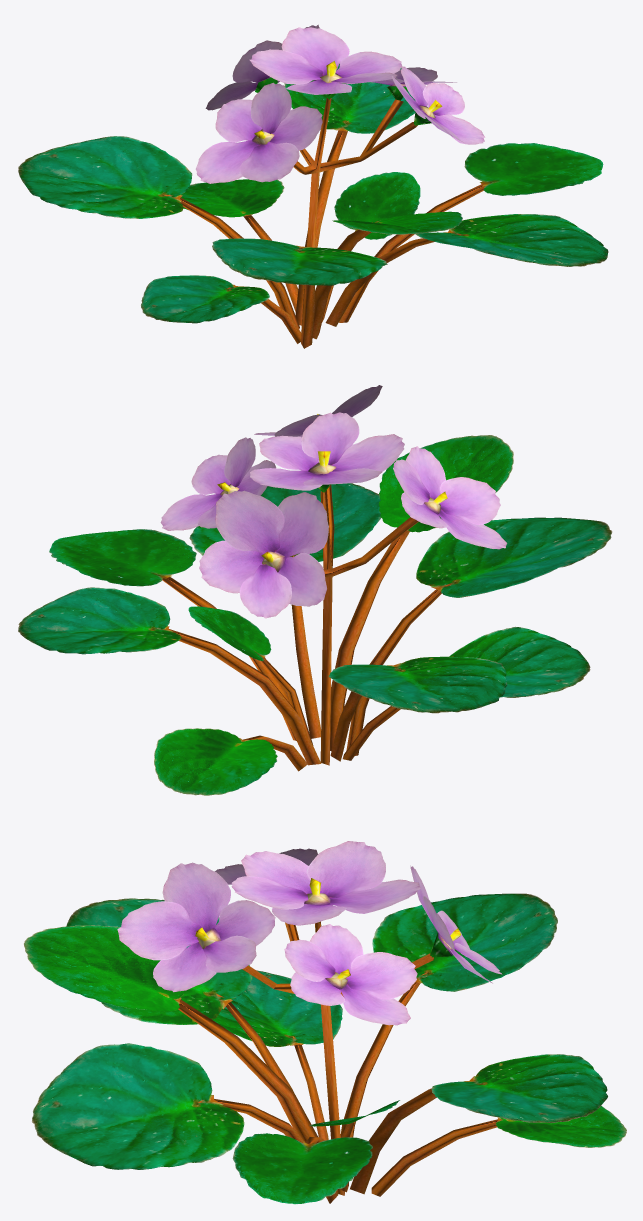
Rendered from Saintpaulia3A.fbx.
The picture shows the model from 3 angles, top to bottom: view 1: azimuth 30°, elevation 25°; view 2: azimuth 150°, elevation 25°; view 3: azimuth 270°, elevation 25°; orthographic projection. The views are drawn at different scales.
Parts seen in each view (by area): view 1: Sainpaulia3A_LOD0; view 2: Sainpaulia3A_LOD0; view 3: Sainpaulia3A_LOD0.
Part boxes in pixels (x1,y1,x2,y2): Sainpaulia3A_LOD0: [18, 24, 608, 348]; Sainpaulia3A_LOD0: [18, 385, 612, 795]; Sainpaulia3A_LOD0: [24, 841, 626, 1204].
Size of what is drawn, in the model's own units: 62.9 by 36 by 56.95.
